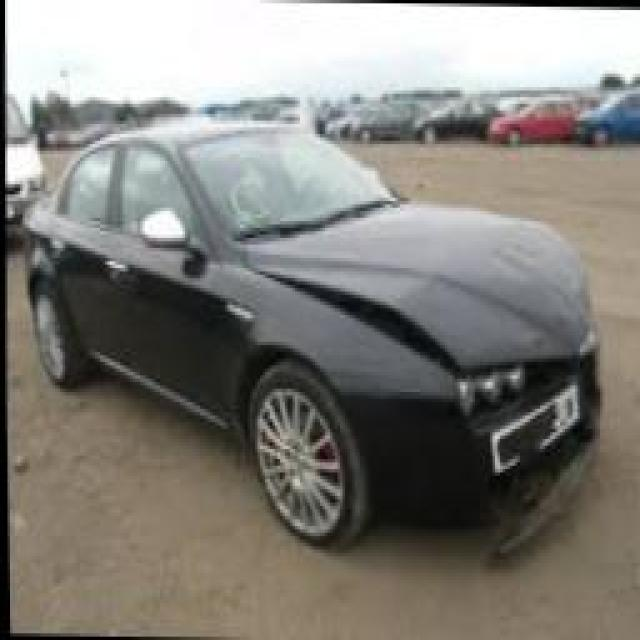rapairable: (503, 246, 593, 336)
replaceable: (481, 432, 618, 514)
